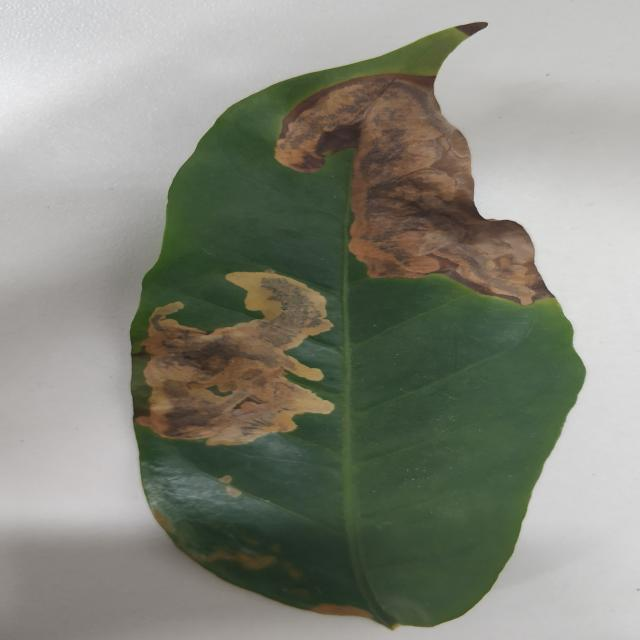Plaga-Minador: (128, 22, 587, 631)
